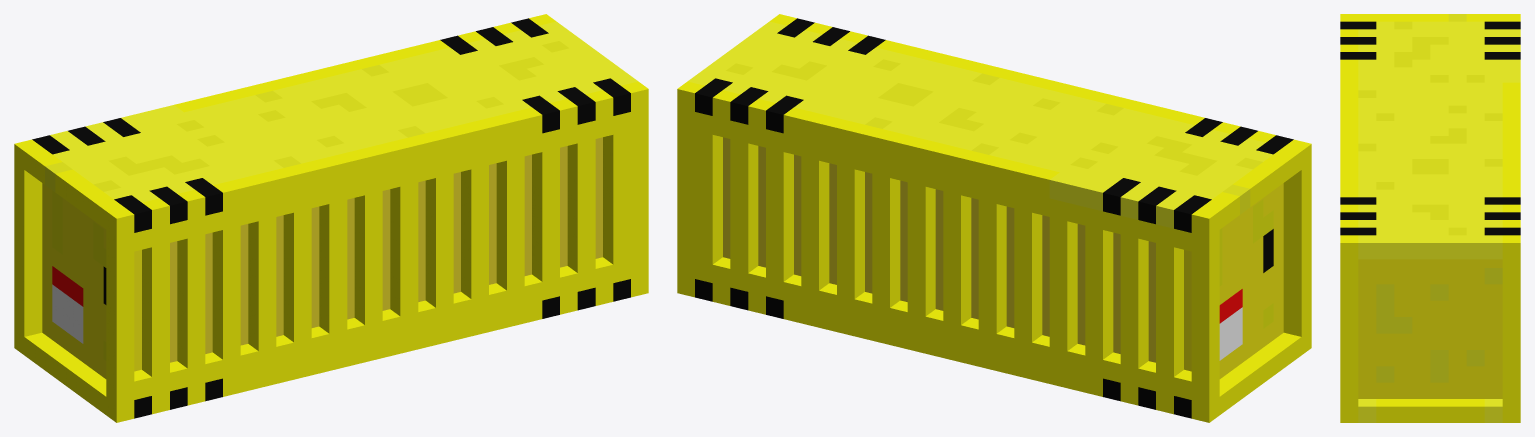
The model's file is contenedor.obj.
The picture shows the model from 3 angles, left to right: view 1: azimuth 30°, elevation 25°; view 2: azimuth 150°, elevation 25°; view 3: azimuth 270°, elevation 25°; orthographic projection. The views are drawn at different scales.
Visible parts, largest first — view 1: mesh; view 2: mesh; view 3: mesh.
Part boxes in pixels (x1=…): mesh: x1=14, y1=14, x2=648, y2=422; mesh: x1=677, y1=14, x2=1311, y2=422; mesh: x1=1340, y1=14, x2=1520, y2=422.
Size of the model in its own units: 3 by 1.1 by 1.
